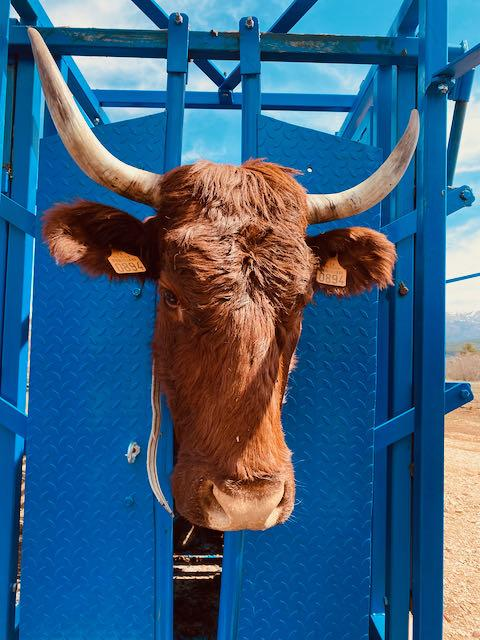muzzles: (174, 465, 303, 537)
